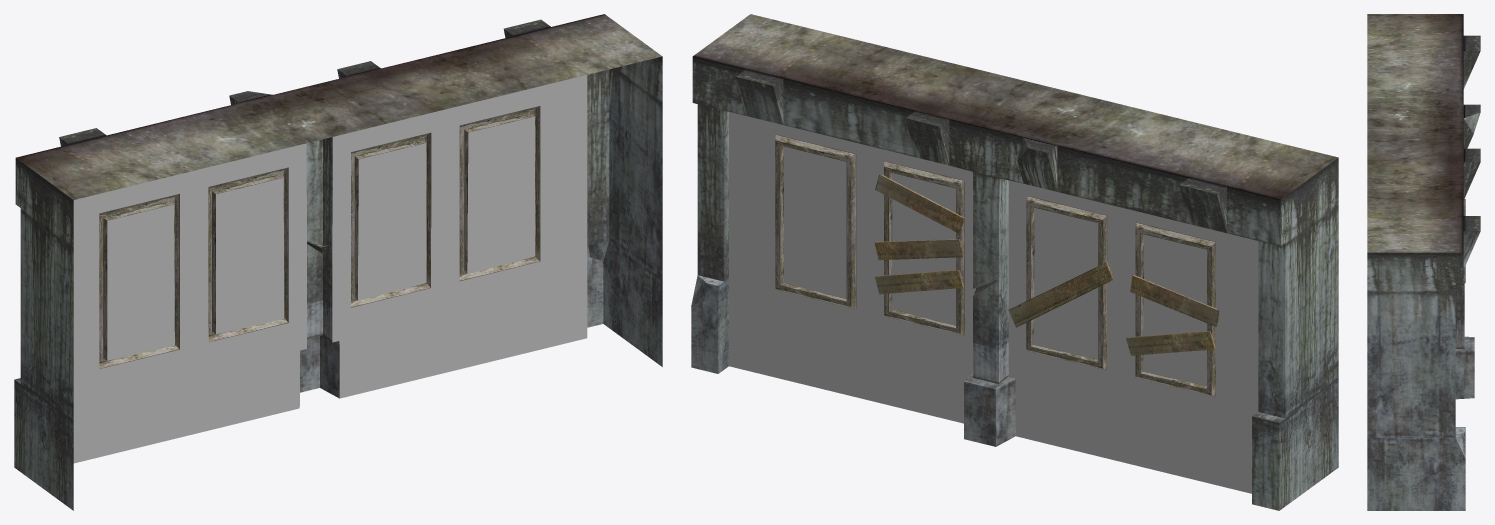
Rendered from Store_front_4_A.fbx.
3 renders of one model, left to right at view 1: azimuth 30°, elevation 25°; view 2: azimuth 150°, elevation 25°; view 3: azimuth 270°, elevation 25°, orthographic. The views are drawn at different scales.
Parts seen in each view (by area): view 1: Store_front_4_A; view 2: Store_front_4_A; view 3: Store_front_4_A.
Part boxes in pixels (<box>): Store_front_4_A: <box>14,14,662,510</box>; Store_front_4_A: <box>691,14,1338,510</box>; Store_front_4_A: <box>1367,14,1480,510</box>.
Bounding box in the file's own units: 700 × 353 × 140.
